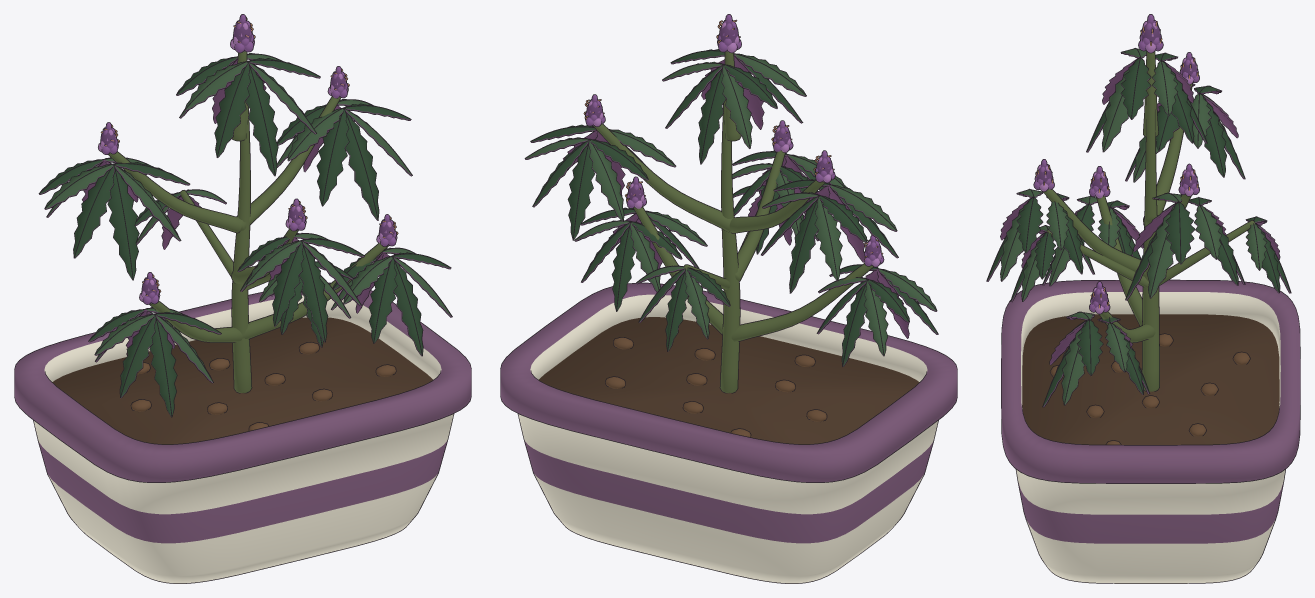
The model's file is cannabis_pourpre_growing_toon.glb.
The picture shows the model from 3 angles, left to right: view 1: azimuth 30°, elevation 25°; view 2: azimuth 150°, elevation 25°; view 3: azimuth 270°, elevation 25°; orthographic projection.
Parts seen in each view (by area): view 1: cannabis_pourpre_growing_Geometry; view 2: cannabis_pourpre_growing_Geometry; view 3: cannabis_pourpre_growing_Geometry.
Part boxes in pixels (x1,y1,x2,y2): cannabis_pourpre_growing_Geometry: (14, 14, 471, 583); cannabis_pourpre_growing_Geometry: (500, 14, 957, 583); cannabis_pourpre_growing_Geometry: (986, 14, 1300, 583).
Bounding box in the file's own units: 0.4952 × 0.6533 × 0.3686.
